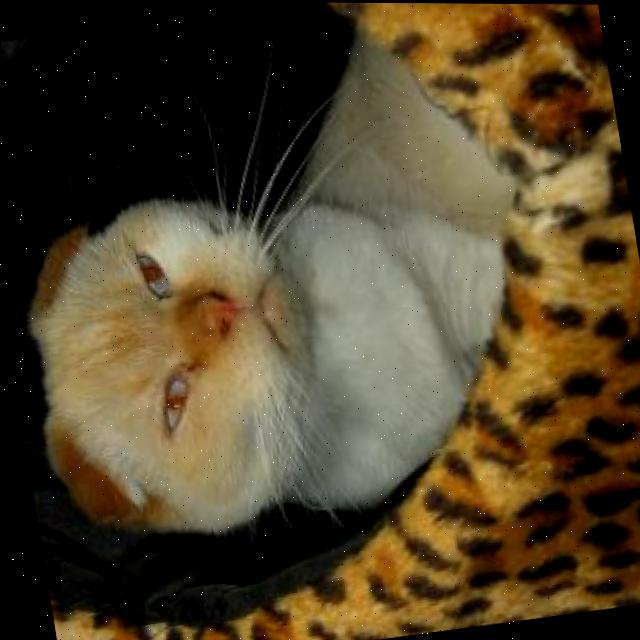Scottish Fold: (0, 0, 568, 567)
